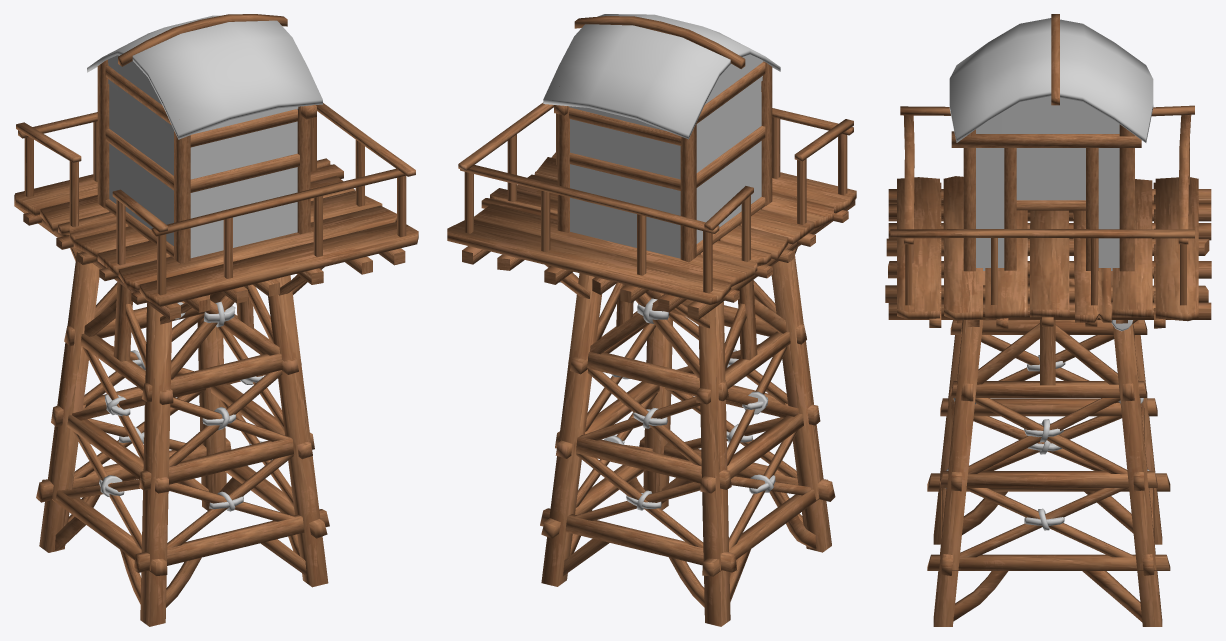
Rendered from Tower_1.fbx.
3 views of the same model, side by side, from view 1: azimuth 30°, elevation 25°; view 2: azimuth 150°, elevation 25°; view 3: azimuth 270°, elevation 25° (orthographic). The views are drawn at different scales.
Visible parts, largest first — view 1: Tower_1; view 2: Tower_1; view 3: Tower_1.
Part boxes in pixels (x1=…): Tower_1: x1=14, y1=14, x2=418, y2=626; Tower_1: x1=447, y1=14, x2=856, y2=626; Tower_1: x1=885, y1=14, x2=1211, y2=626.
Size of the model in its own units: 5.11 by 9.46 by 5.03.
